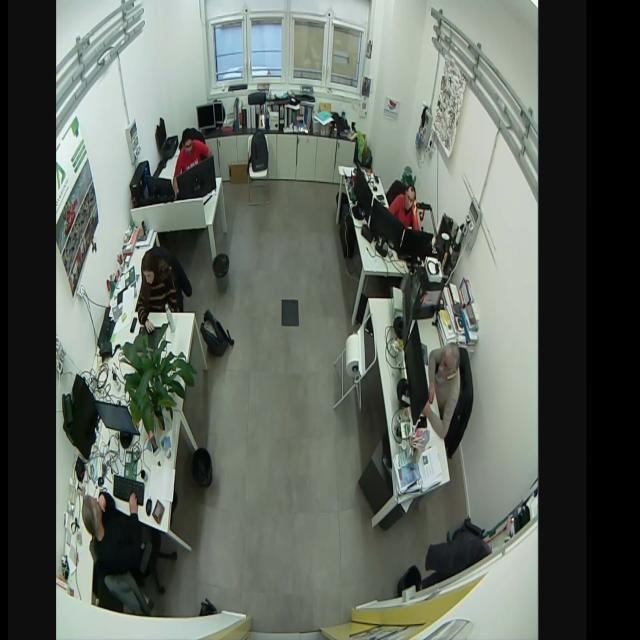Persona: (77, 485, 149, 574), (421, 342, 463, 440), (136, 249, 179, 335), (171, 121, 211, 180), (387, 175, 421, 235)
